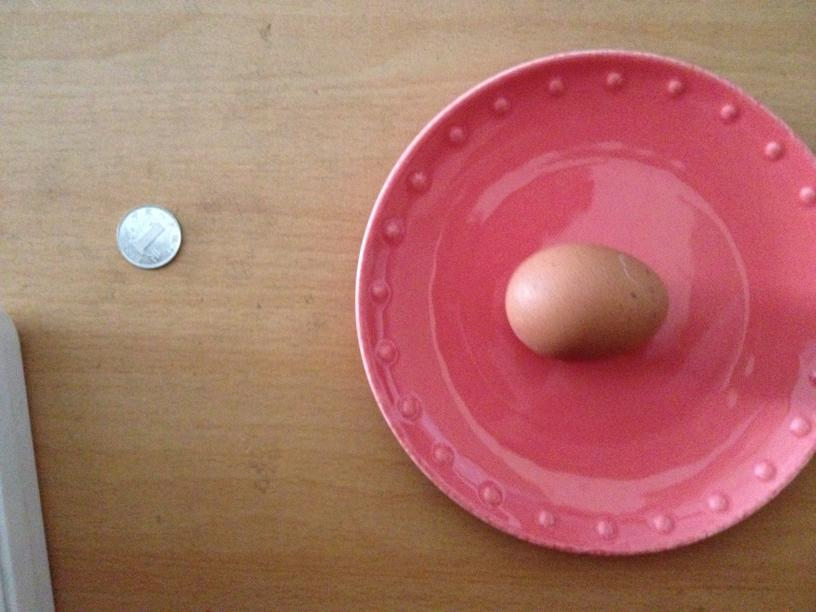coin: (115, 205, 180, 270)
egg: (504, 243, 668, 358)
